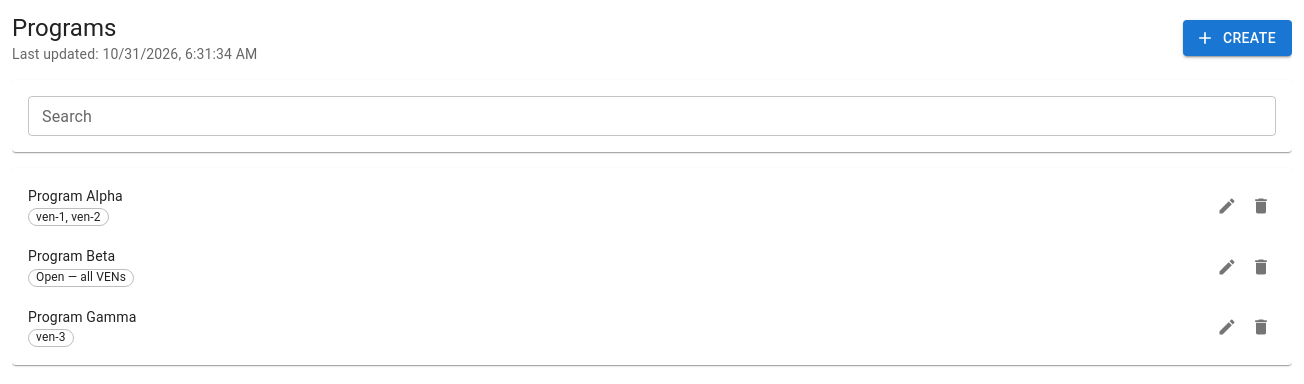
it: ProgramsPage › shows empty state when no programs match
This screenshot has width=1304, height=384.
Type "zzz-no-match" into the field with test id "programs-search" at {"x": 652, "y": 116}, box [28, 96, 1276, 136]
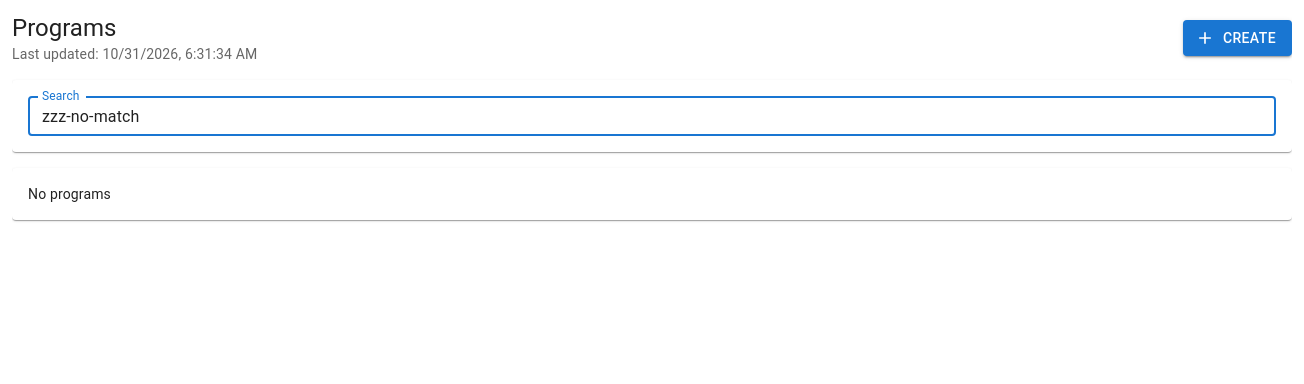
Now the list item with test id "programs-empty" reads "No programs", box [28, 186, 111, 202]
